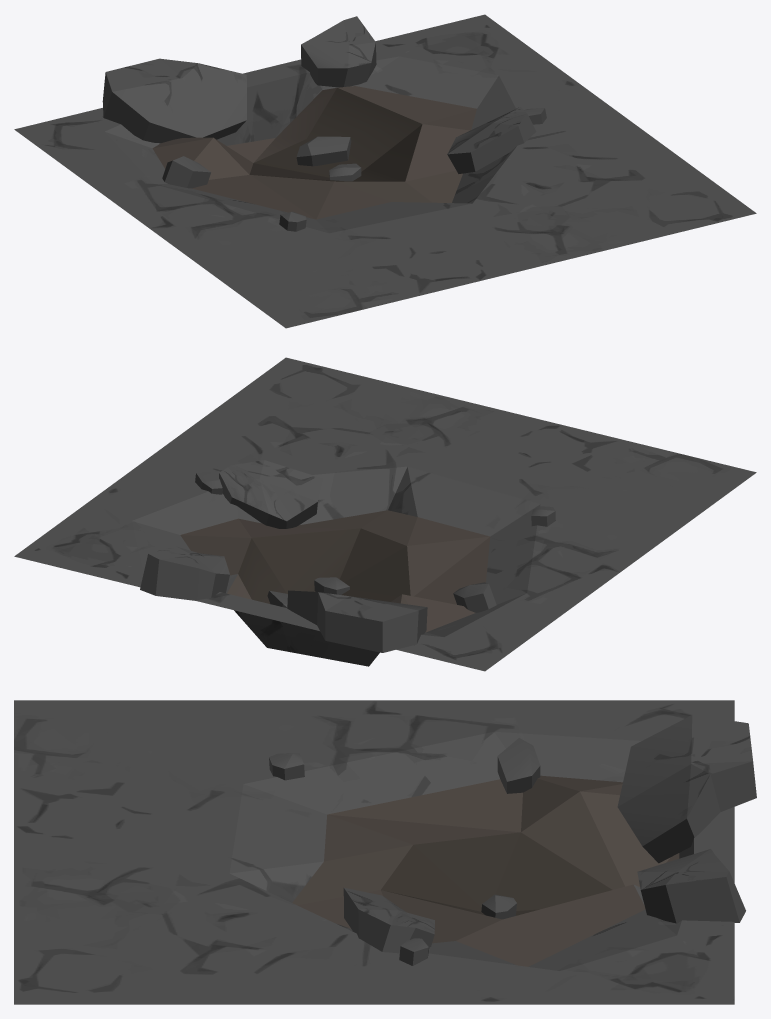
The model's file is SM_Env_City_Road_Damaged_01.fbx.
The picture shows the model from 3 angles, top to bottom: view 1: azimuth 30°, elevation 25°; view 2: azimuth 150°, elevation 25°; view 3: azimuth 270°, elevation 25°; orthographic projection. The views are drawn at different scales.
Visible parts, largest first — view 1: SM_Env_City_Road_Damaged_01; view 2: SM_Env_City_Road_Damaged_01; view 3: SM_Env_City_Road_Damaged_01.
Part boxes in pixels (left/top/right/bottom): SM_Env_City_Road_Damaged_01: left=14, top=14, right=756, bottom=328; SM_Env_City_Road_Damaged_01: left=14, top=357, right=756, bottom=671; SM_Env_City_Road_Damaged_01: left=14, top=700, right=756, bottom=1004.
Bounding box in the file's own units: 5 × 0.9237 × 5.16.
